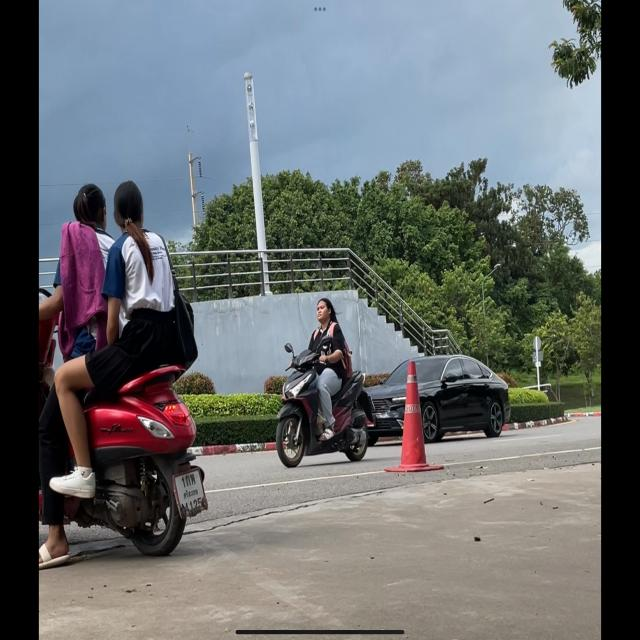seatbelt: (73, 181, 108, 232), (113, 179, 144, 235), (316, 298, 333, 324)
